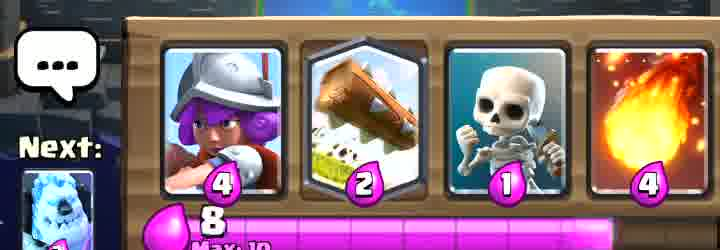fireball: (595, 46, 710, 193)
ice-golem: (25, 172, 93, 249)
log: (311, 43, 423, 189)
musketeer: (165, 47, 282, 201)
skeleton: (448, 57, 558, 200)
